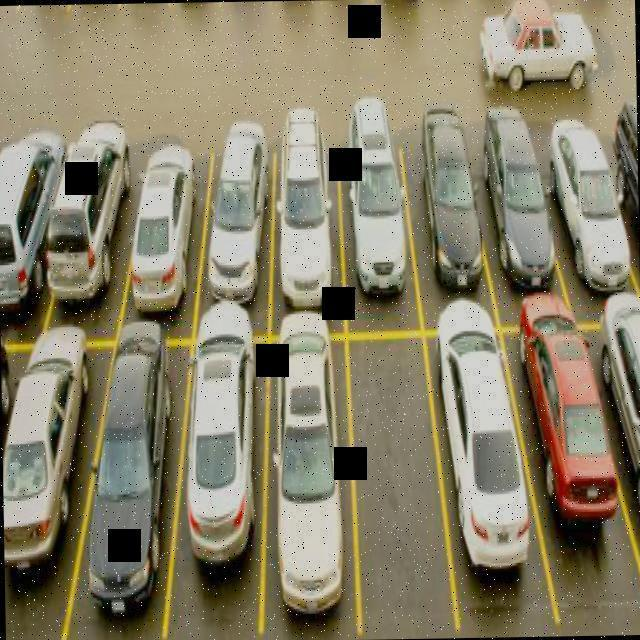space-empty: (346, 328, 439, 605)
space-occupied: (500, 301, 636, 603), (73, 329, 200, 640), (159, 331, 280, 637), (0, 328, 111, 629), (253, 337, 357, 607), (438, 310, 525, 599), (38, 118, 134, 324), (117, 119, 205, 322), (467, 109, 558, 294), (333, 106, 414, 311), (264, 112, 344, 317), (199, 120, 276, 325), (403, 109, 484, 301), (0, 93, 62, 335), (551, 114, 619, 298)
